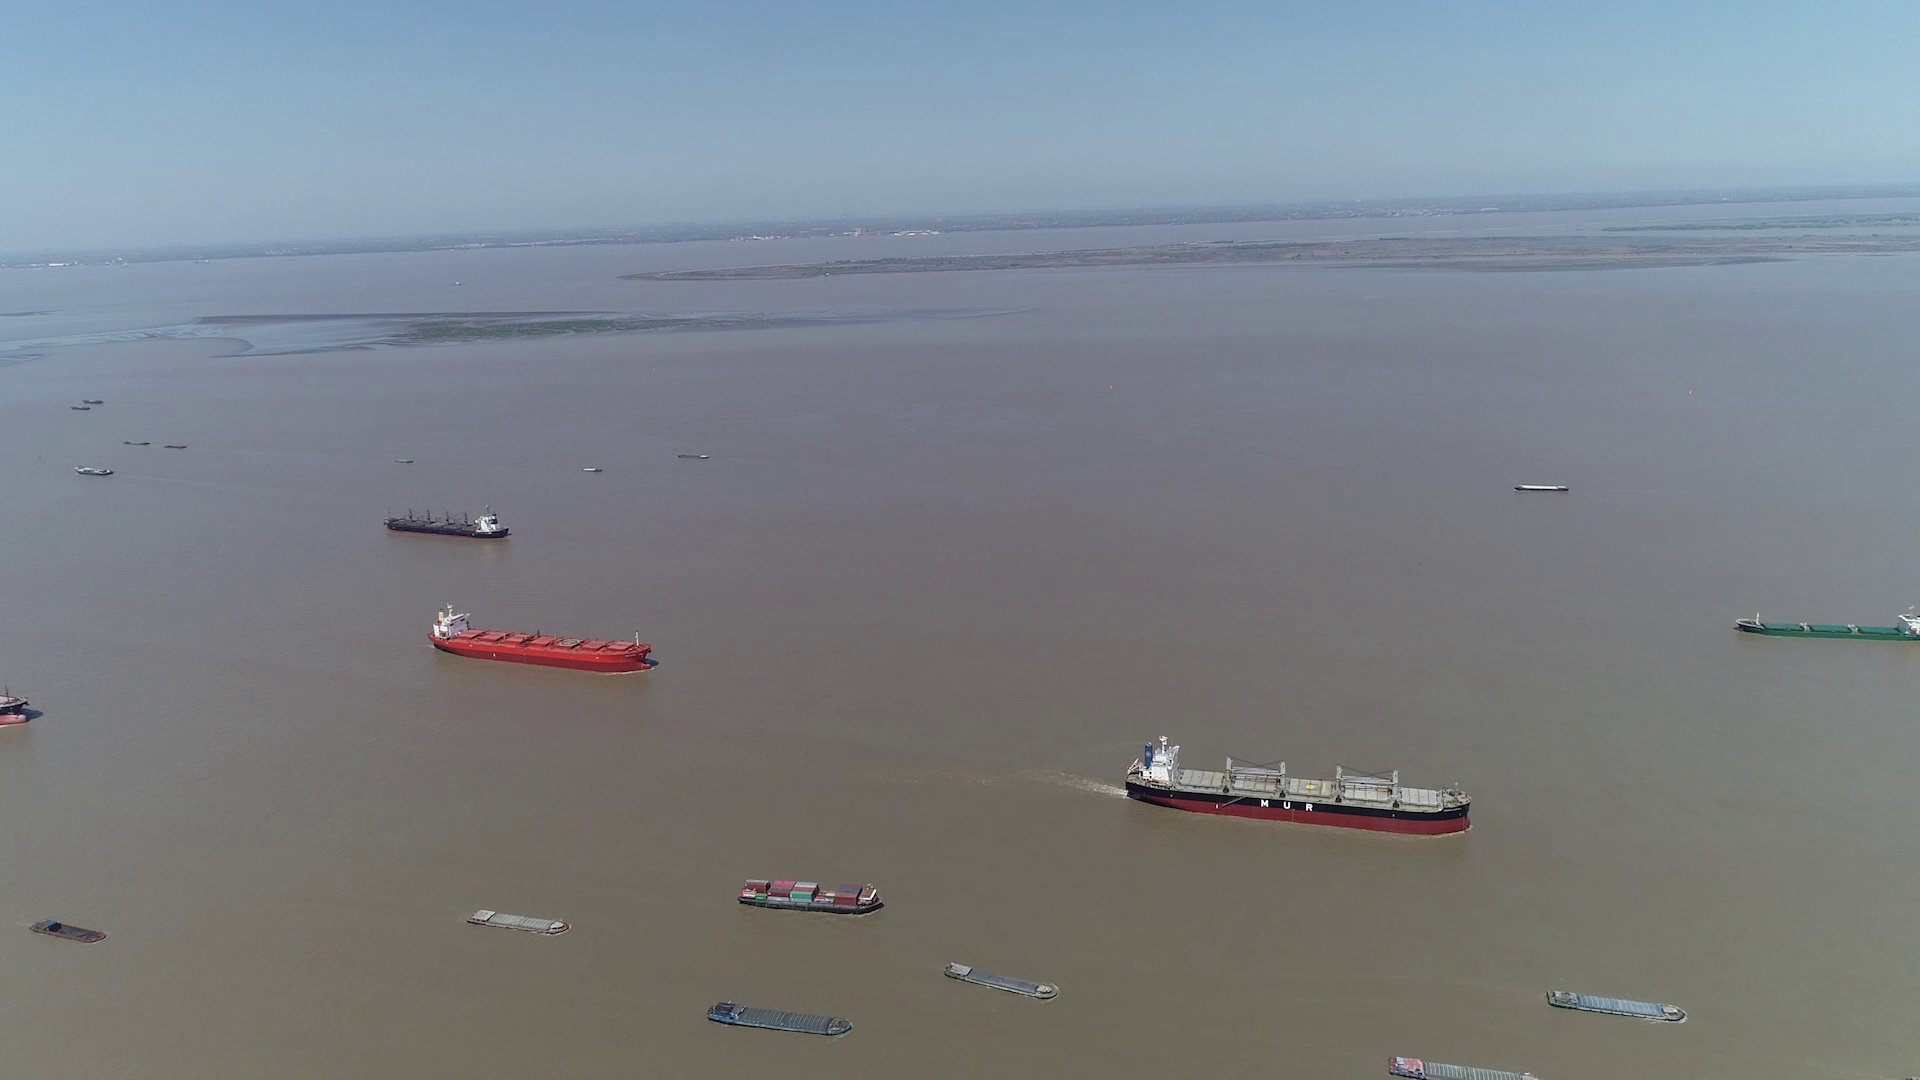ship: (1126, 738, 1472, 833), (429, 604, 654, 674), (1735, 609, 1919, 642), (704, 1000, 855, 1039), (735, 878, 884, 916), (1547, 988, 1687, 1025), (945, 963, 1059, 1001), (385, 506, 512, 538), (1391, 1055, 1536, 1080), (465, 907, 568, 934), (0, 682, 36, 731), (34, 918, 103, 942), (1515, 484, 1568, 493), (75, 464, 115, 475), (676, 452, 709, 459)
